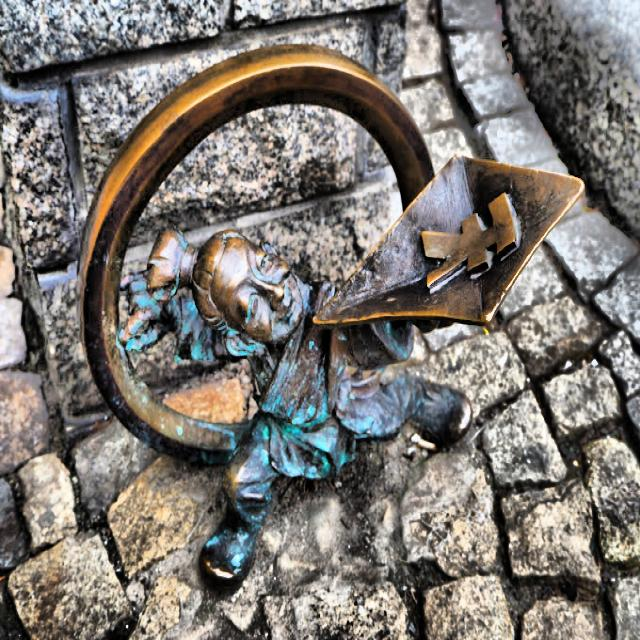TianTian: (79, 45, 582, 587)
